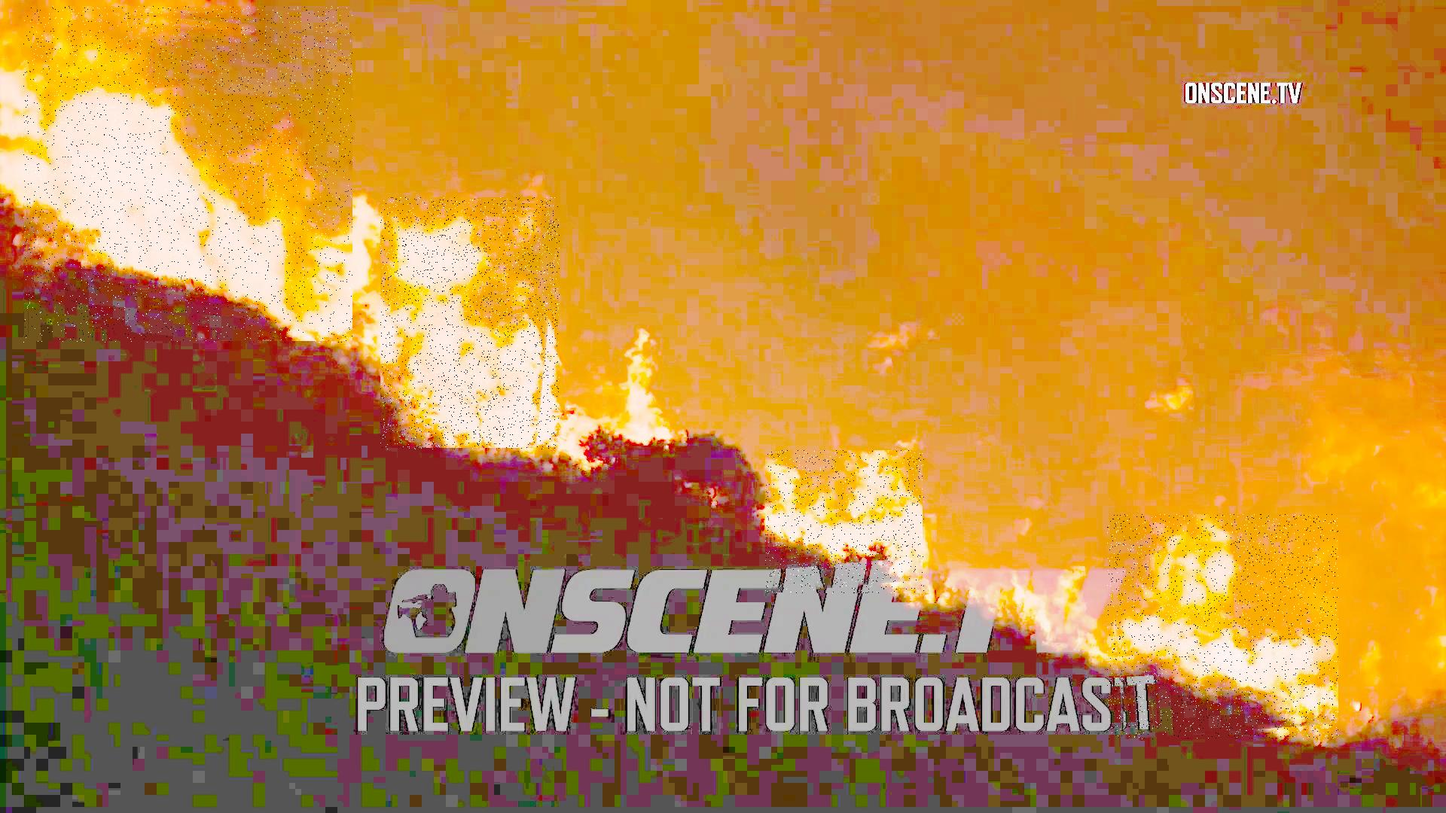fire: (23, 7, 353, 343), (1107, 514, 1338, 739), (380, 198, 560, 450), (766, 450, 925, 593)
